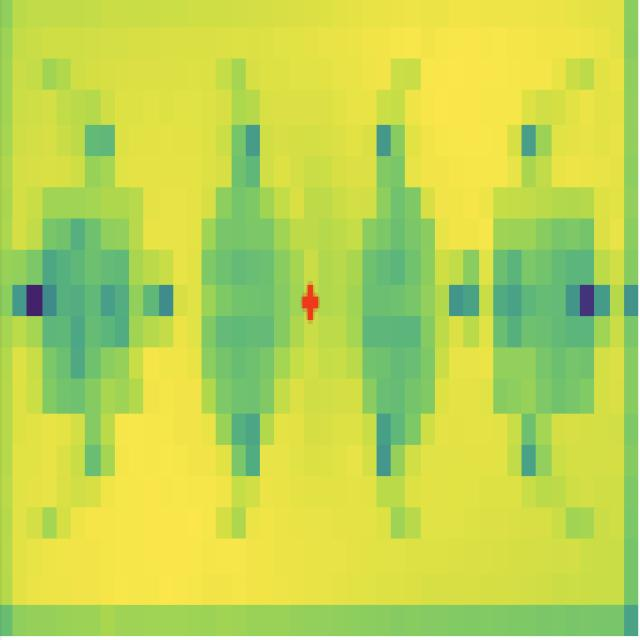Concrete: (202, 184, 300, 428)
Glass: (42, 188, 146, 420)
Metal: (358, 184, 440, 482)
Wood: (493, 187, 594, 416)
